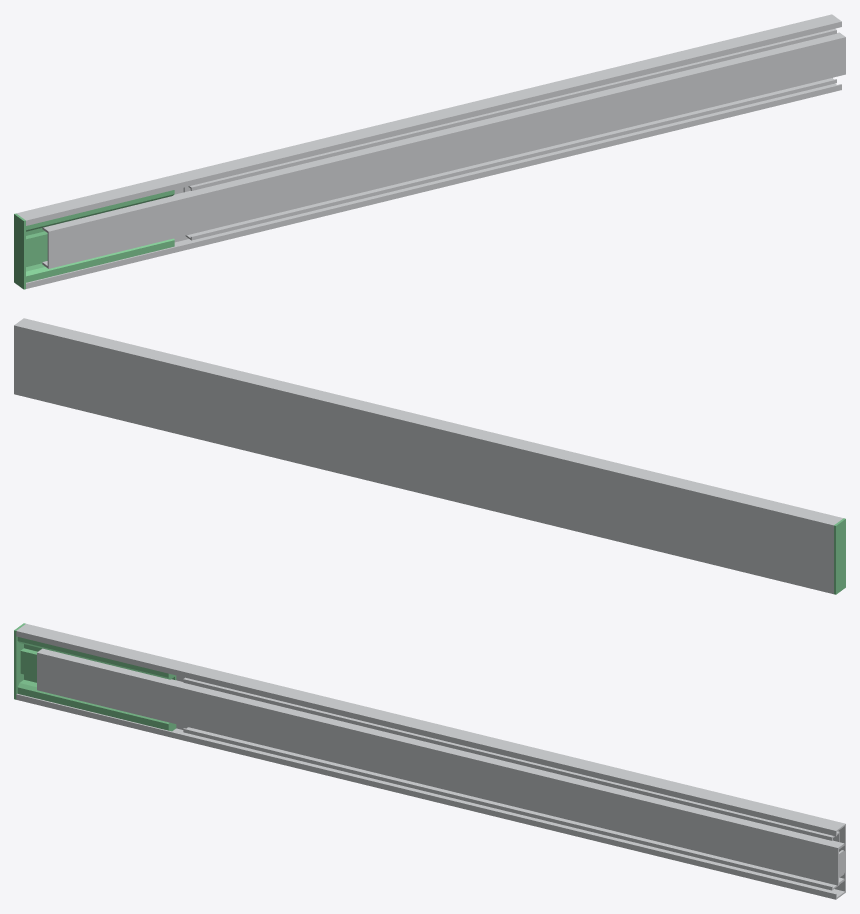
The picture shows the model from 3 angles, top to bottom: view 1: azimuth 30°, elevation 25°; view 2: azimuth 150°, elevation 25°; view 3: azimuth 330°, elevation 25°; orthographic projection.
Visible parts, largest first — view 1: 44ce2a52827c; view 2: 44ce2a52827c; view 3: 44ce2a52827c.
Boxes of the visible parts, x1,y1,x2,y2 form: 44ce2a52827c: [14, 14, 845, 289]; 44ce2a52827c: [14, 318, 845, 594]; 44ce2a52827c: [14, 623, 845, 899].
Size of the model in its own units: 552 by 44 by 12.7.
